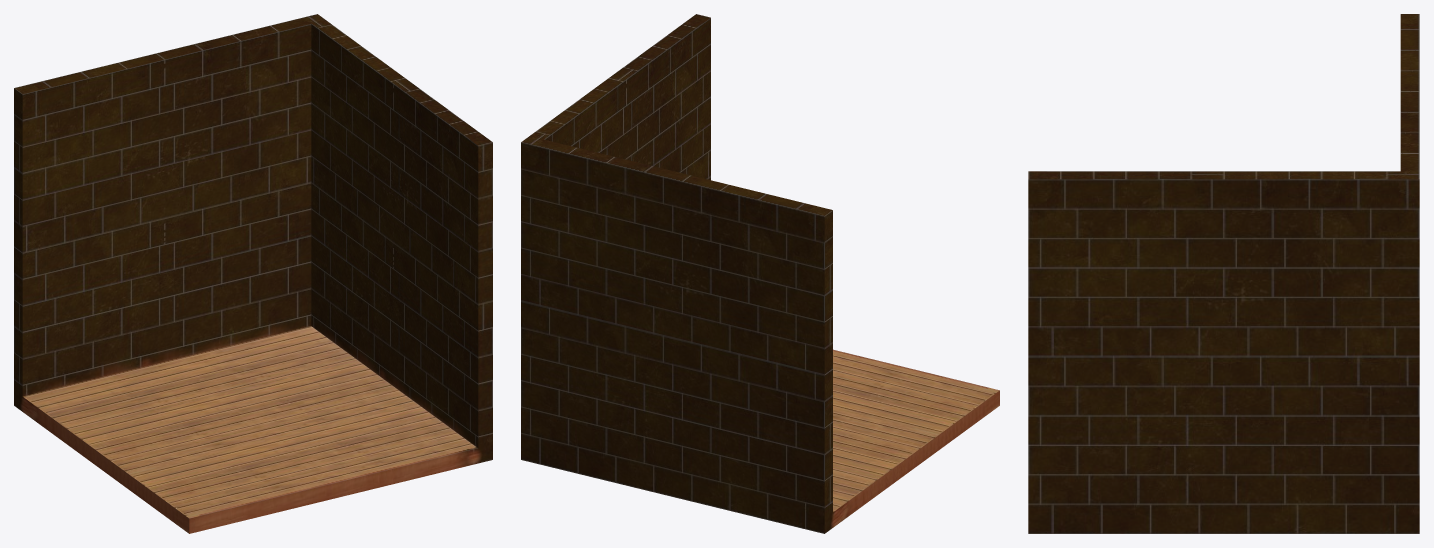
File: isometric_bricks2.glb
The picture shows the model from 3 angles, left to right: view 1: azimuth 30°, elevation 25°; view 2: azimuth 150°, elevation 25°; view 3: azimuth 270°, elevation 25°; orthographic projection. The views are drawn at different scales.
Visible parts, largest first — view 1: Object_2; view 2: Object_2; view 3: Object_2.
Boxes of the visible parts, box(x1,y1,x2,y2) form: Object_2: box(14, 14, 492, 533); Object_2: box(521, 14, 999, 533); Object_2: box(1028, 14, 1419, 533).
Bounding box in the file's own units: 24.77 × 24.77 × 24.77.
1 material, 1 textured.
